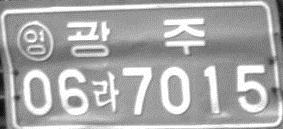0: (159, 65, 191, 115), (22, 68, 53, 117)
1: (198, 64, 229, 114)
5: (236, 64, 269, 113)
6: (57, 67, 89, 116)
7: (121, 66, 152, 116)
광주_D: (65, 17, 205, 58)
라: (91, 70, 119, 112)
영: (16, 20, 54, 62)
